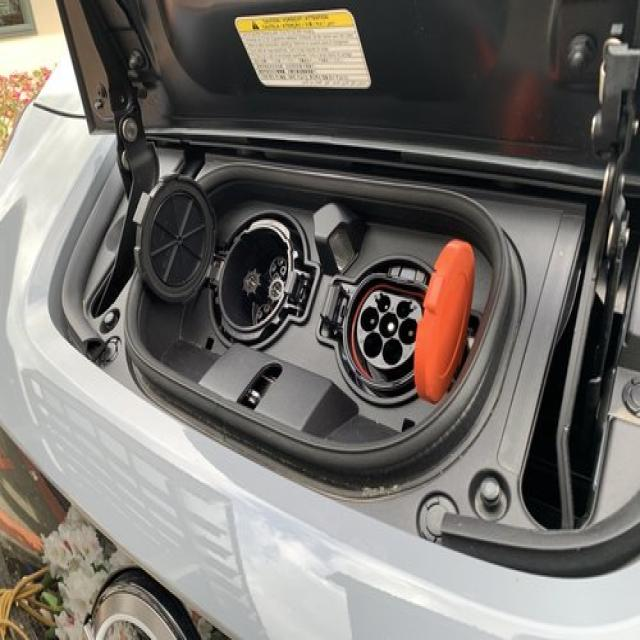CHAdeMO: (192, 191, 304, 374)
